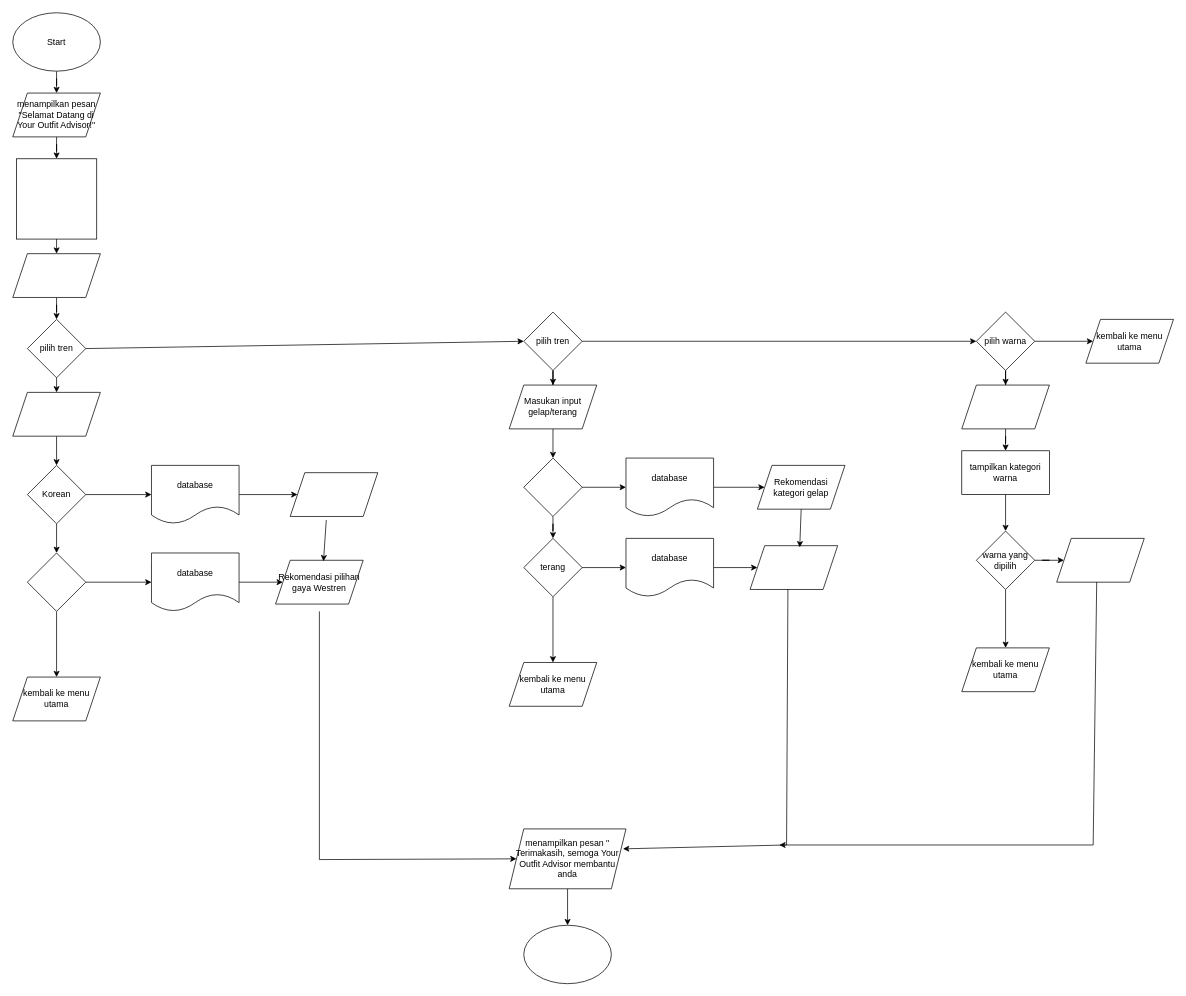
Image size: 1186x996. Some labels were removed from this diagram. The box of each missing label's shape, as (x1, y1, x2, y2) in pixels:
gelap: (523, 457, 582, 516)
Input pilihan menu: (12, 253, 100, 297)
masukkan input pilihan warna: (961, 384, 1049, 429)
masukkan input western/korean: (12, 392, 100, 436)
Rekomendasi kategori terang: (749, 545, 838, 589)
Rekomendasi pilihan gaya korean: (289, 472, 378, 516)
rekomendasi warna: (1056, 538, 1144, 582)
selesai: (523, 925, 611, 984)
Tampilan menu utama 1. pilih tren 2. pilih preferensi 3. pilih warna: (16, 158, 97, 239)
Western: (27, 552, 86, 611)
